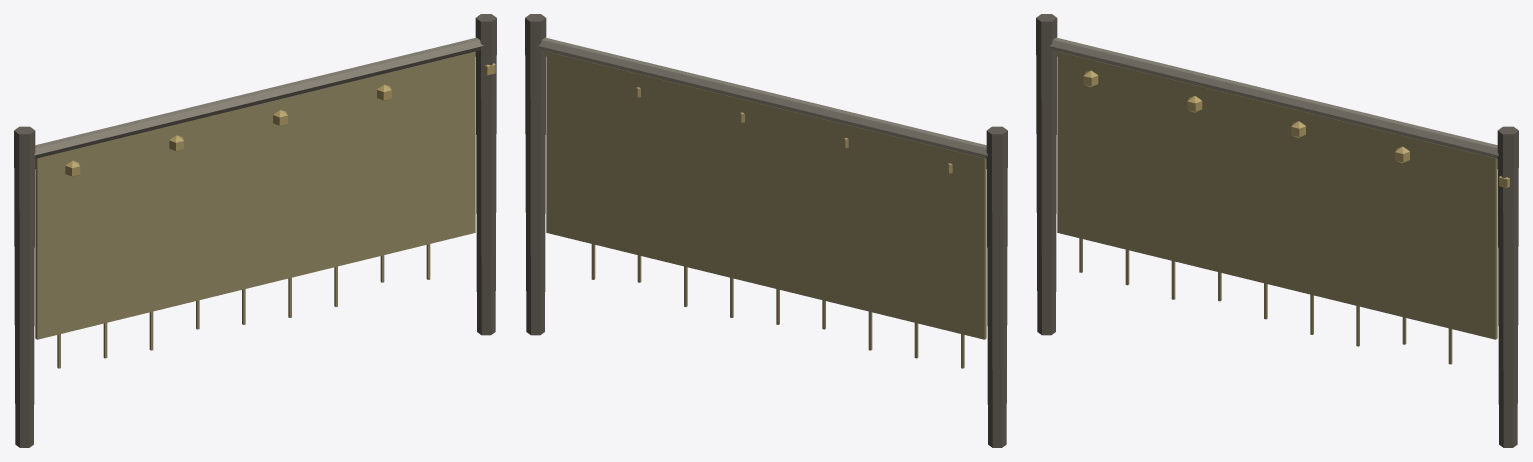
File: harbor_net_frame.glb
The picture shows the model from 3 angles, left to right: view 1: azimuth 30°, elevation 25°; view 2: azimuth 150°, elevation 25°; view 3: azimuth 330°, elevation 25°; orthographic projection.
Visible parts, largest first — view 1: harbor_net_frame; view 2: harbor_net_frame; view 3: harbor_net_frame.
Part boxes in pixels (box(x1,y1,x2,y2)): harbor_net_frame: box(14, 14, 496, 447); harbor_net_frame: box(525, 14, 1007, 447); harbor_net_frame: box(1036, 14, 1518, 447).
Size of the model in its own units: 4.14 by 2.6 by 0.16.
